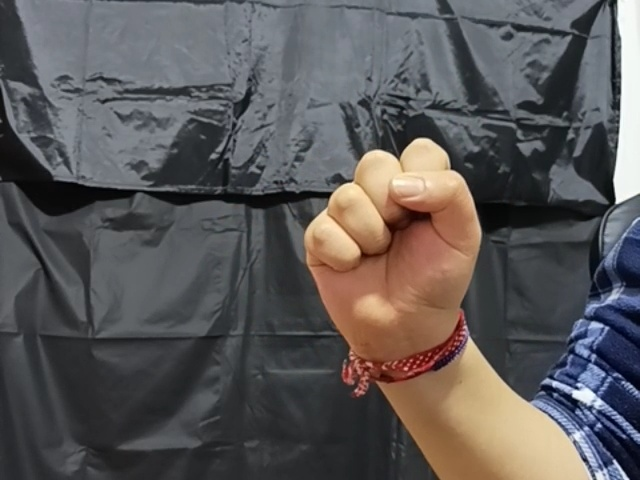S: (297, 129, 477, 326)
